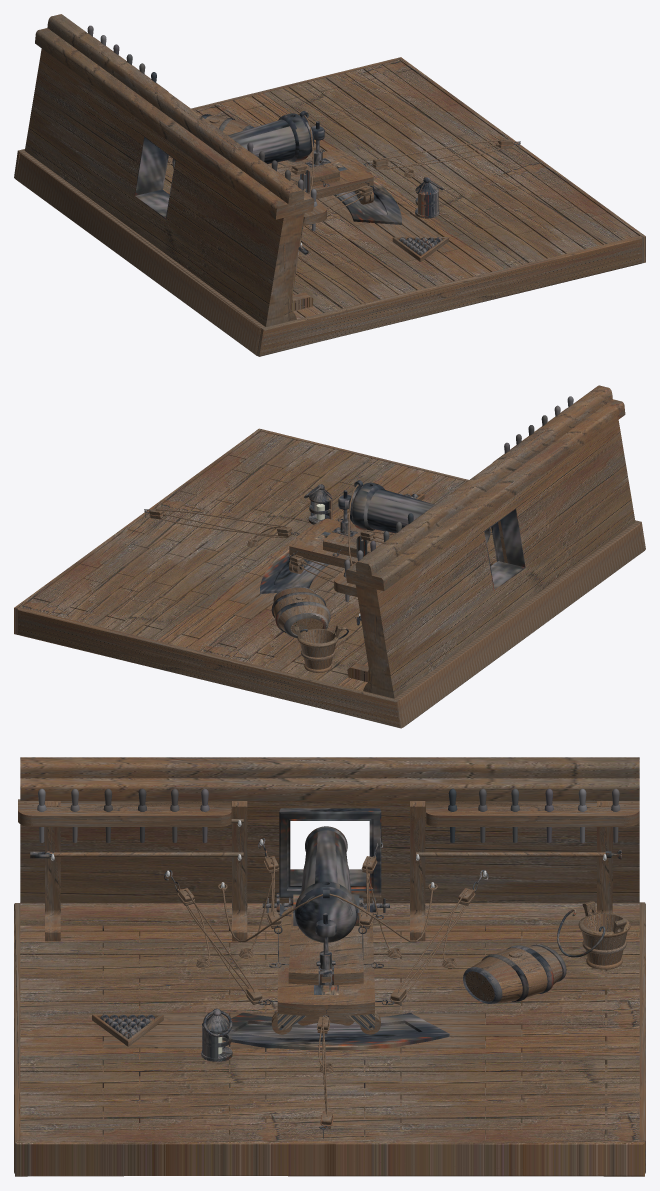
Rendered from gun.FBX.
3 renders of one model, top to bottom at view 1: azimuth 30°, elevation 25°; view 2: azimuth 150°, elevation 25°; view 3: azimuth 270°, elevation 25°, orthographic. The views are drawn at different scales.
Parts seen in each view (by area): view 1: F8014TBL, F8014WAL, F8014FLO, F8014BAS, F8014WND, F8014MT8, F8014TB1, F8014TL2, F8014LG1, F8014CB4, F8014MTL, F8014BDN (+1 smaller); view 2: F8014TBL, F8014WAL, F8014FLO, F8014BAS, F8014BDN, F8014WND, F8014CU1, F8014TB1, F8014MT8, F8014TL2, F8014CB4, F8014MTL (+2 smaller); view 3: F8014TBL, F8014WAL, F8014FLO, F8014MT8, F8014BAS, F8014BDN, F8014TB1, F8014WND, F8014TL2, F8014MTL, F8014CU1, F8014LG1 (+9 smaller).
Boxes of the visible parts, x1=… form: F8014TBL: x1=163, y1=60, x2=638, y2=319; F8014WAL: x1=24, y1=14, x2=326, y2=326; F8014FLO: x1=14, y1=57, x2=645, y2=356; F8014BAS: x1=172, y1=111, x2=324, y2=169; F8014WND: x1=134, y1=137, x2=175, y2=219; F8014MT8: x1=334, y1=180, x2=401, y2=224; F8014TB1: x1=304, y1=149, x2=373, y2=199; F8014TL2: x1=268, y1=151, x2=339, y2=186; F8014LG1: x1=415, y1=177, x2=439, y2=218; F8014CB4: x1=369, y1=139, x2=514, y2=177; F8014MTL: x1=87, y1=25, x2=317, y2=230; F8014BDN: x1=201, y1=114, x2=253, y2=135; F8014TBL: x1=21, y1=431, x2=496, y2=690; F8014WAL: x1=334, y1=385, x2=635, y2=698; F8014FLO: x1=14, y1=428, x2=645, y2=728; F8014BAS: x1=338, y1=480, x2=490, y2=543; F8014BDN: x1=271, y1=586, x2=330, y2=638; F8014WND: x1=484, y1=508, x2=525, y2=590; F8014CU1: x1=294, y1=625, x2=341, y2=672; F8014TB1: x1=289, y1=518, x2=357, y2=567; F8014MT8: x1=260, y1=549, x2=328, y2=594; F8014TL2: x1=323, y1=520, x2=394, y2=557; F8014CB4: x1=149, y1=509, x2=293, y2=547; F8014MTL: x1=343, y1=396, x2=573, y2=601; F8014TBL: x1=20, y1=925, x2=639, y2=1140; F8014WAL: x1=18, y1=757, x2=639, y2=941; F8014FLO: x1=14, y1=902, x2=645, y2=1176; F8014MT8: x1=222, y1=1012, x2=449, y2=1051; F8014BAS: x1=295, y1=826, x2=357, y2=942; F8014BDN: x1=463, y1=944, x2=566, y2=1004; F8014TB1: x1=277, y1=907, x2=374, y2=1016; F8014WND: x1=279, y1=808, x2=381, y2=897; F8014TL2: x1=288, y1=905, x2=363, y2=985; F8014MTL: x1=37, y1=788, x2=620, y2=842; F8014CU1: x1=578, y1=901, x2=630, y2=969; F8014LG1: x1=201, y1=1008, x2=232, y2=1061.
Bounding box in the file's own units: 2984 × 1129 × 3264.
4 materials, 3 textured.
